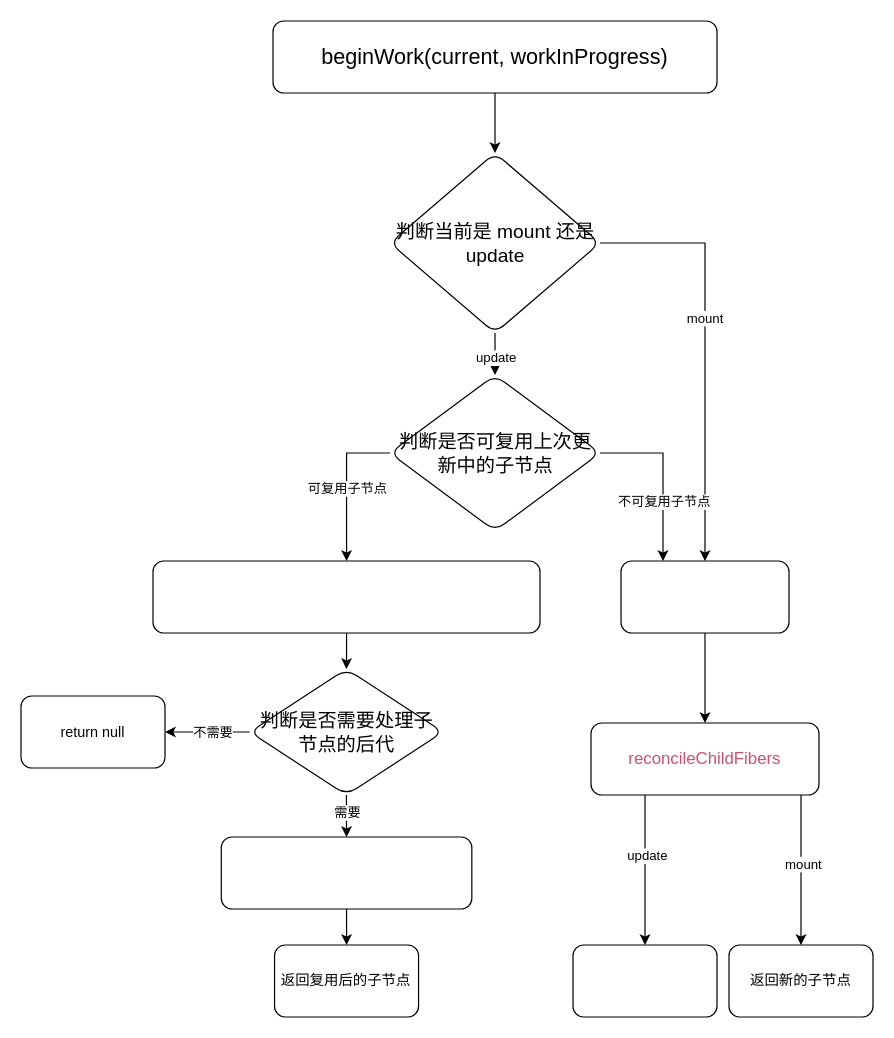
Image size: 894x1038. Some labels were removed from this diagram. The box of each missing label's shape, as (x1, y1, x2, y2) in pixels:
bailoutOnAlreadyFinishedWork ( current , workInProgress , renderLanes ): (152, 560, 540, 633)
cloneChildFibers(current, workInProgress): (220, 836, 472, 909)
根据 workInProgress.tag 来走向不同的创建逻辑: (620, 560, 789, 633)
返回带 effectTag 的新的子节点: (572, 944, 717, 1017)
